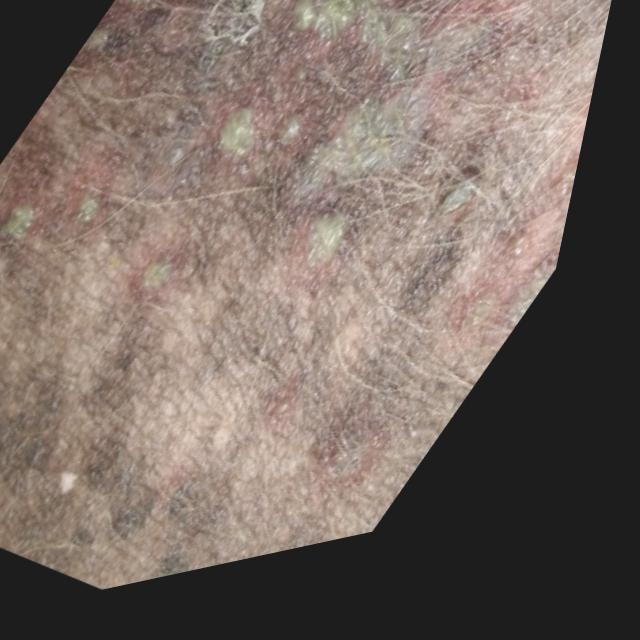viem da do vi khuan (cho): (0, 0, 622, 591)
